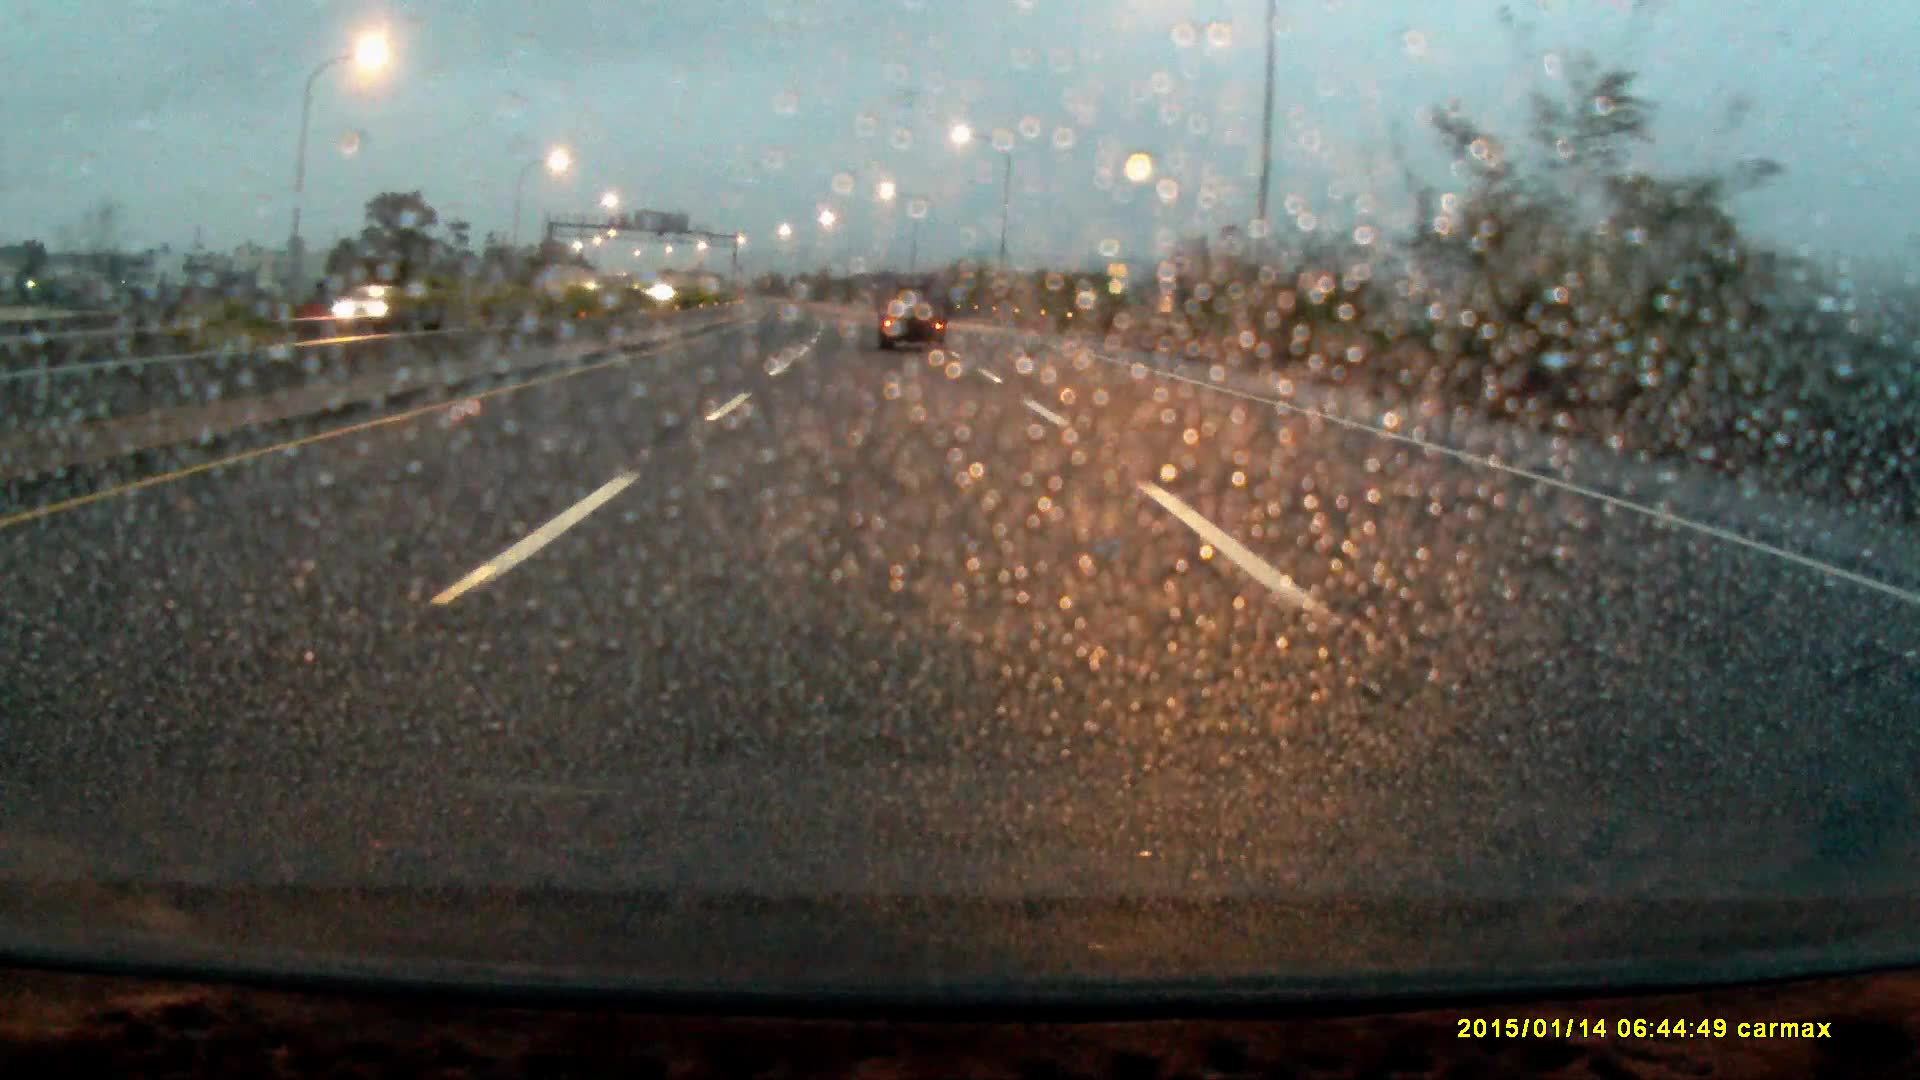vehicle: (877, 268, 947, 353), (332, 284, 406, 320)
